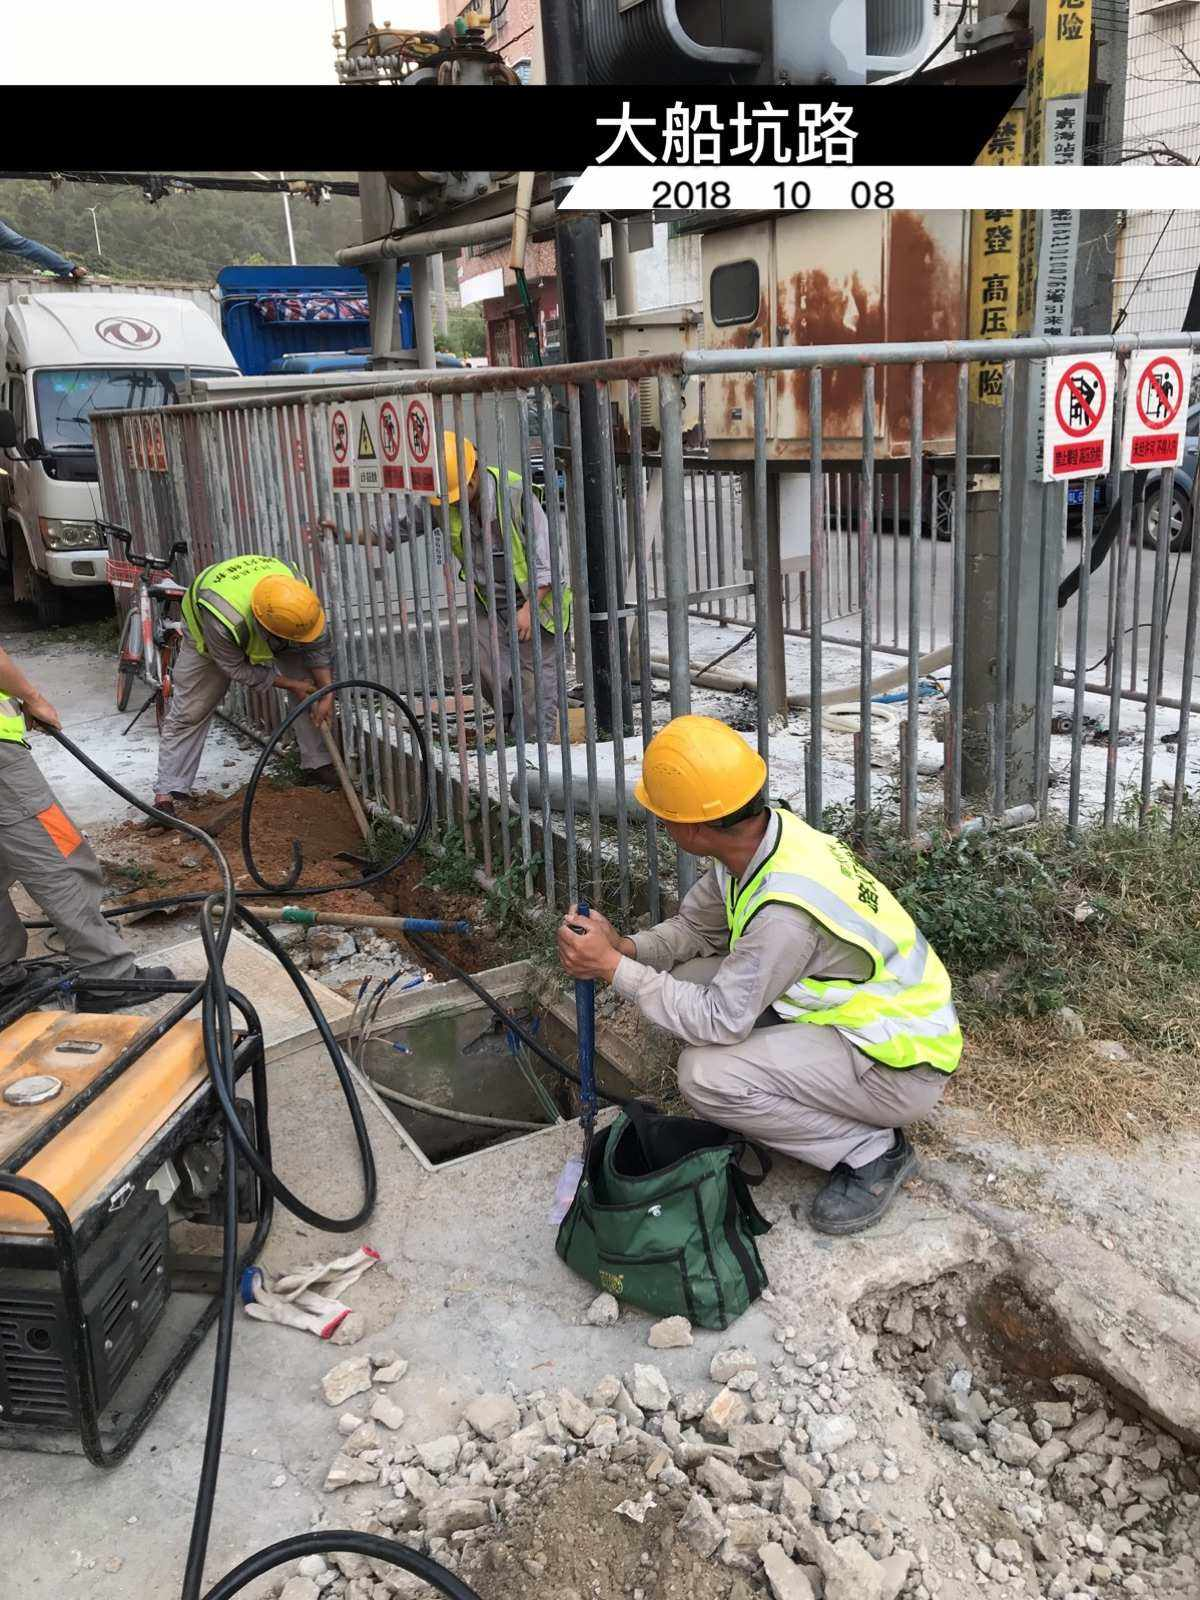person: (557, 708, 972, 1238), (321, 429, 576, 743), (139, 547, 337, 834)
reflective_vest: (719, 808, 970, 1079), (431, 468, 576, 644), (182, 552, 311, 666)
safety_helmet: (629, 713, 774, 858), (246, 575, 330, 644), (427, 429, 476, 507)
